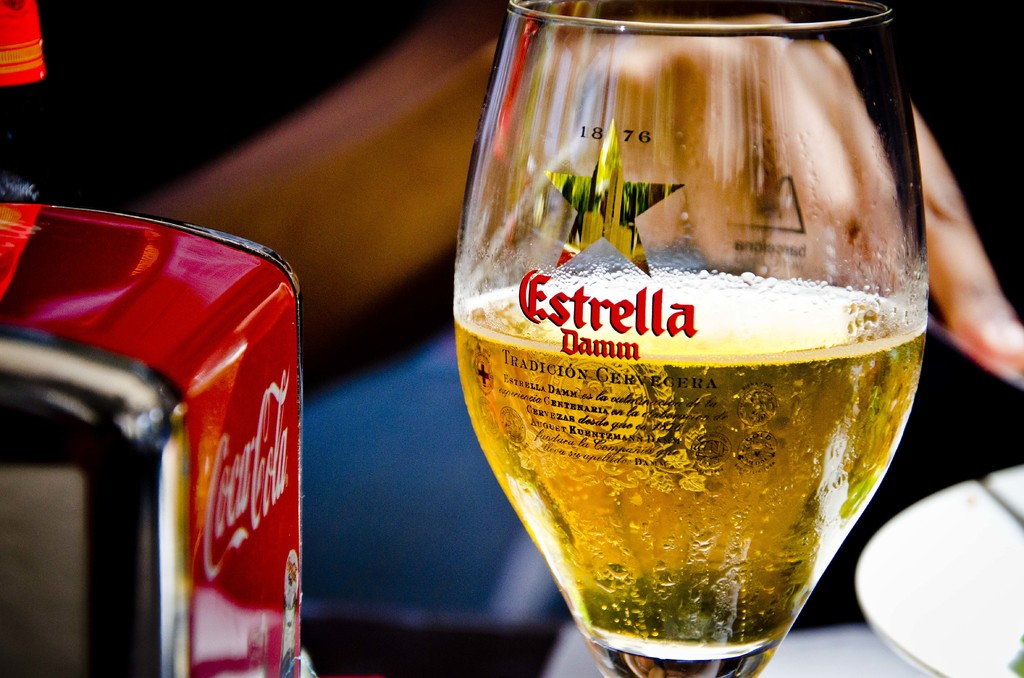Beer: (457, 272, 920, 677)
